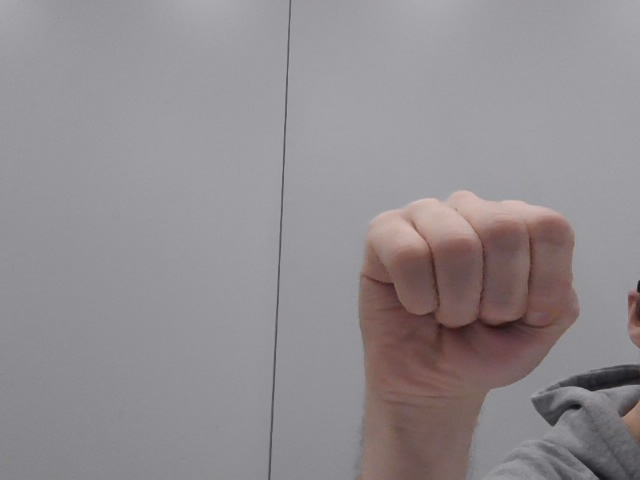down: (350, 161, 594, 440)
